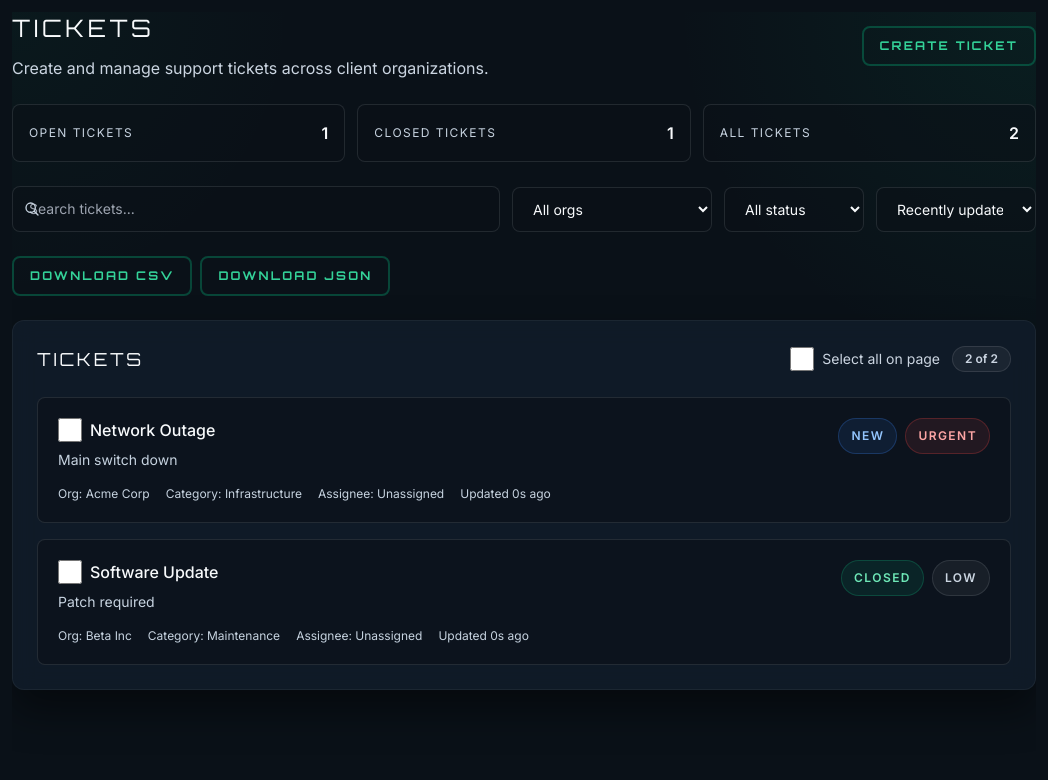
it: AdminTicketCenterClient › filters tickets by status
Step 1. Select "Closed" in the dropdown showing "All status" → {"x": 794, "y": 209}, box [724,186,864,232]
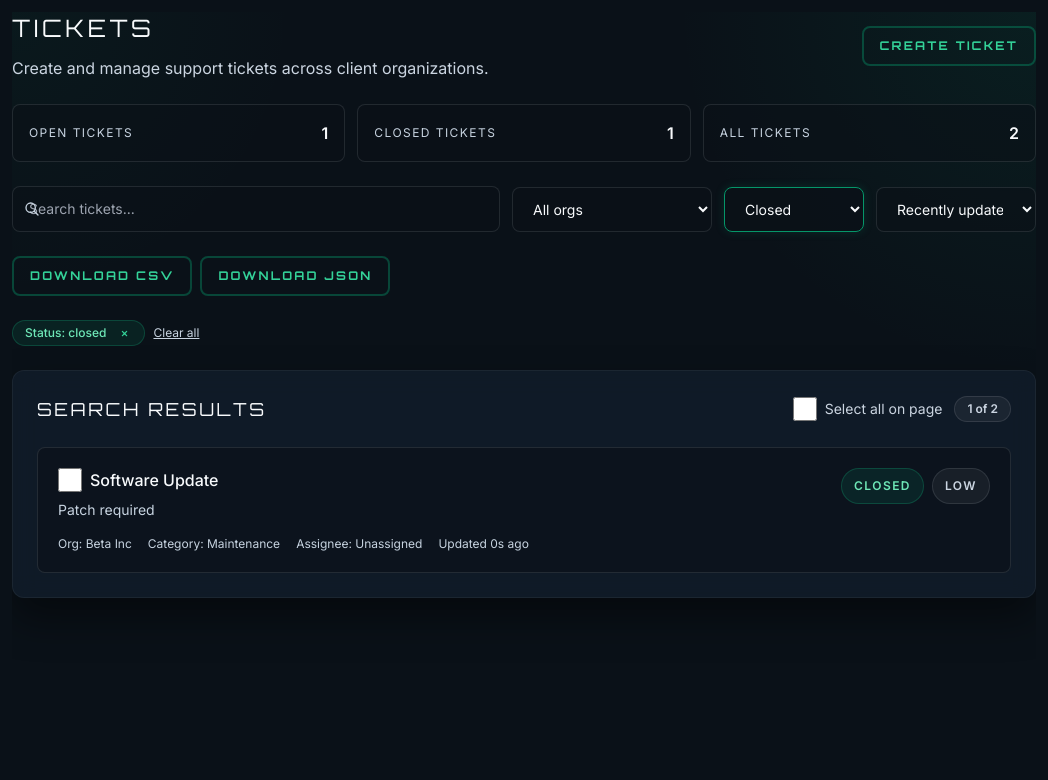
Expected: the link "Software Update" is shown, [90,468,218,492]
Expected: the link "Network Outage" is gone
